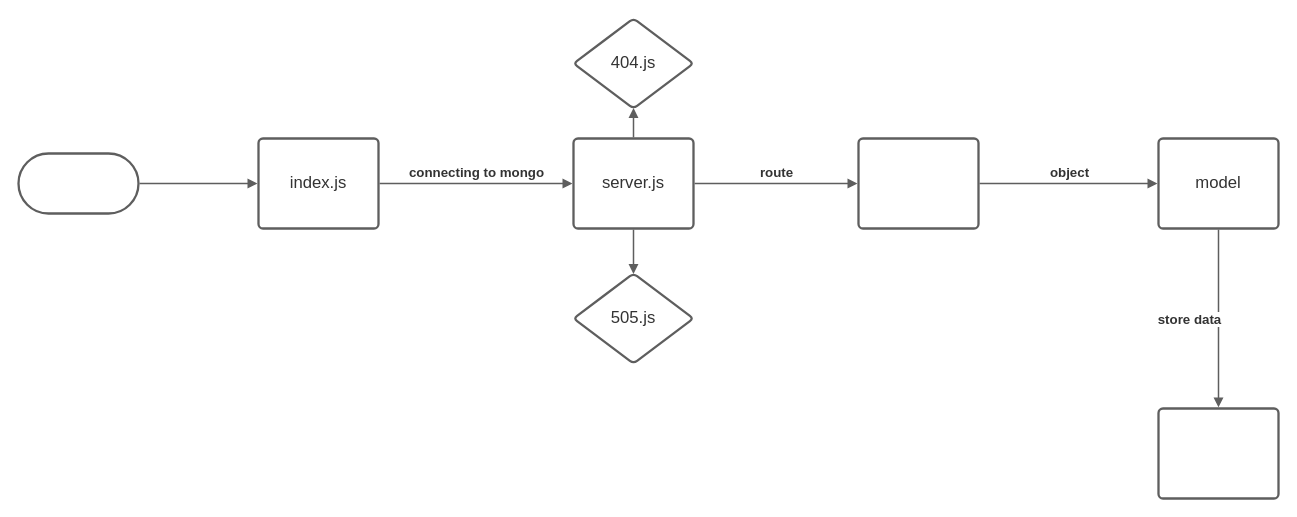
The diagram is 1297 pixels wide and 517 high, and some of its shapes have lost their labels. The centre of each missing label's shape, as x and y in pixels:
"database" goes at point 1218,453.
"request" goes at point 78,183.
"routes" goes at point 918,183.
